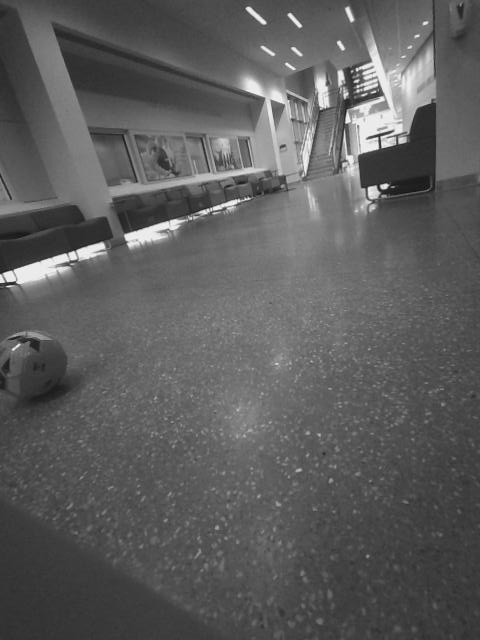ball: (4, 323, 82, 416)
